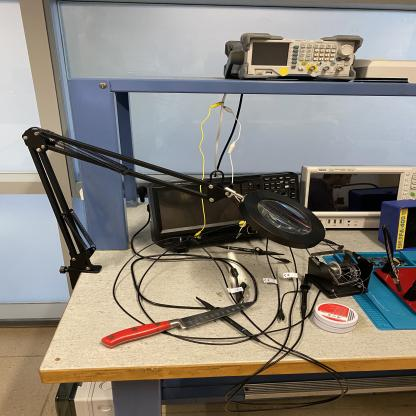Knife: (100, 301, 257, 349)
